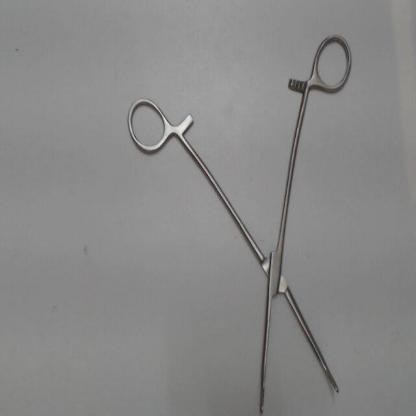Lahey Forceps: (116, 24, 360, 414)
